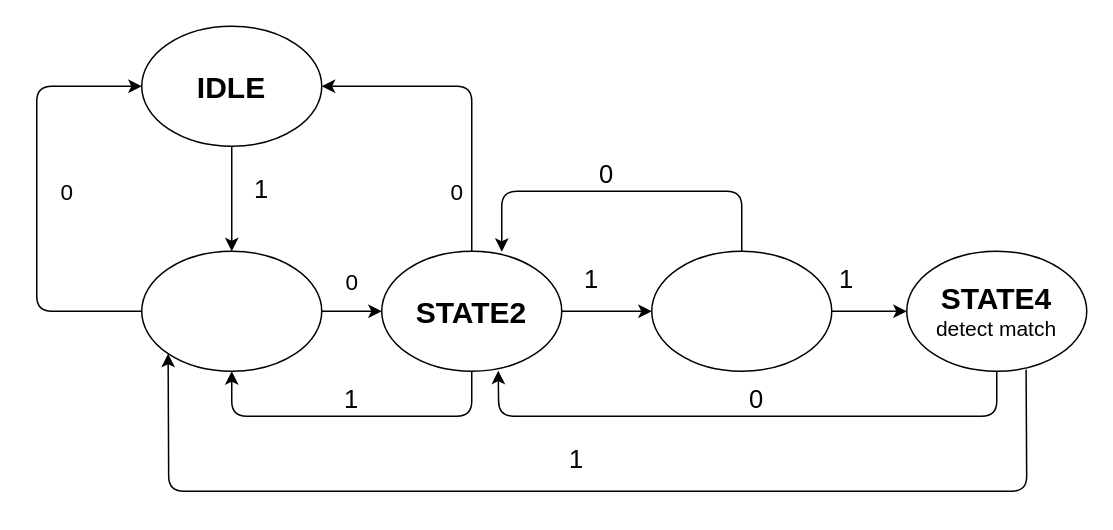
This 1113x530 diagram has some shape labels left out. Here are the shapes that lost their labels. From the top down, the centre of each, then its label:
(x=231, y=310): STATE1
(x=741, y=310): STATE3
